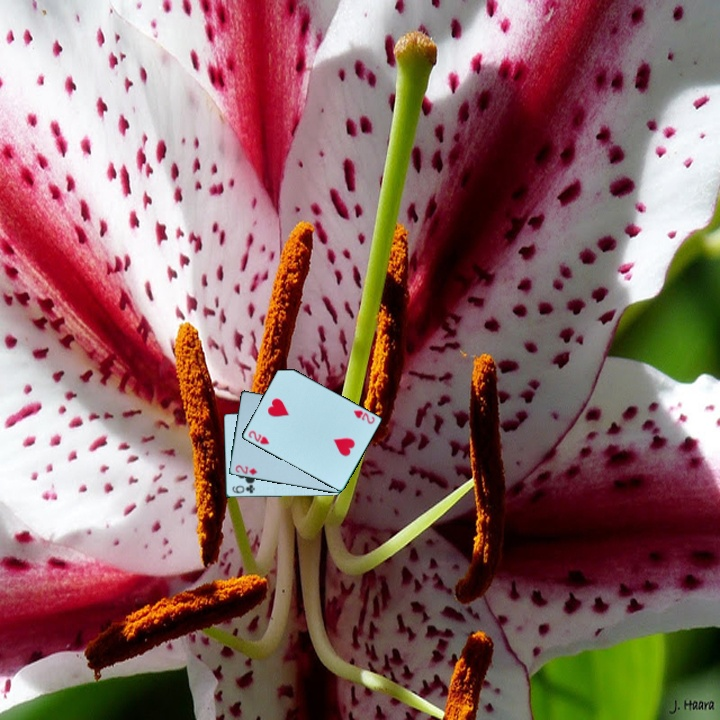2d: (232, 462, 260, 478)
2h: (245, 427, 272, 447), (350, 407, 377, 427)
6c: (229, 482, 257, 496)
